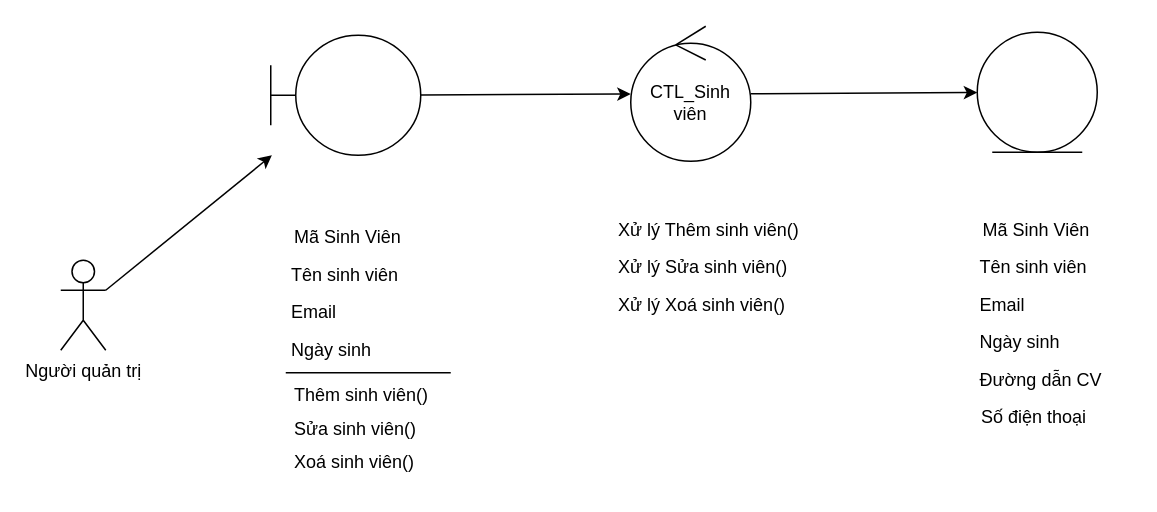
Image size: 1157x512. Some labels were removed from this diagram. Each missing label, with the centre of its shape:
"GUI_Quản lý sinh viên" belongs at point (345, 94).
"Sinh Viên" belongs at point (1036, 91).
